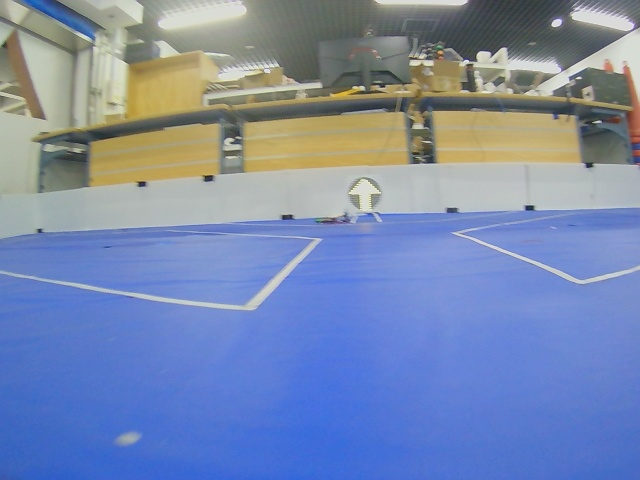straight_yellow: (348, 177, 381, 212)
